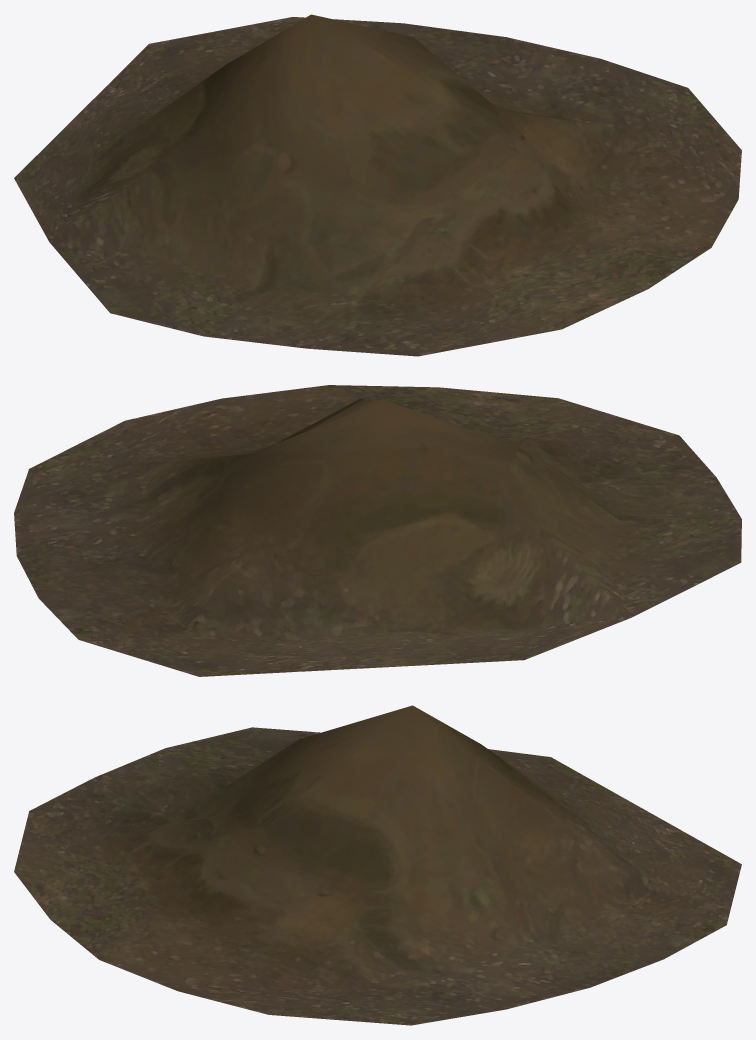
File: rubble_pile.fbx
3 renders of one model, top to bottom at view 1: azimuth 30°, elevation 25°; view 2: azimuth 150°, elevation 25°; view 3: azimuth 270°, elevation 25°, orthographic. The views are drawn at different scales.
Visible parts, largest first — view 1: Material_#6642/dirt_blend_shadow; view 2: Material_#6642/dirt_blend_shadow; view 3: Material_#6642/dirt_blend_shadow.
Boxes of the visible parts, x1=… form: Material_#6642/dirt_blend_shadow: x1=14, y1=14, x2=741, y2=356; Material_#6642/dirt_blend_shadow: x1=14, y1=385, x2=741, y2=676; Material_#6642/dirt_blend_shadow: x1=14, y1=705, x2=741, y2=1025.
Size of the model in its own units: 7.74 by 1.83 by 7.98.
